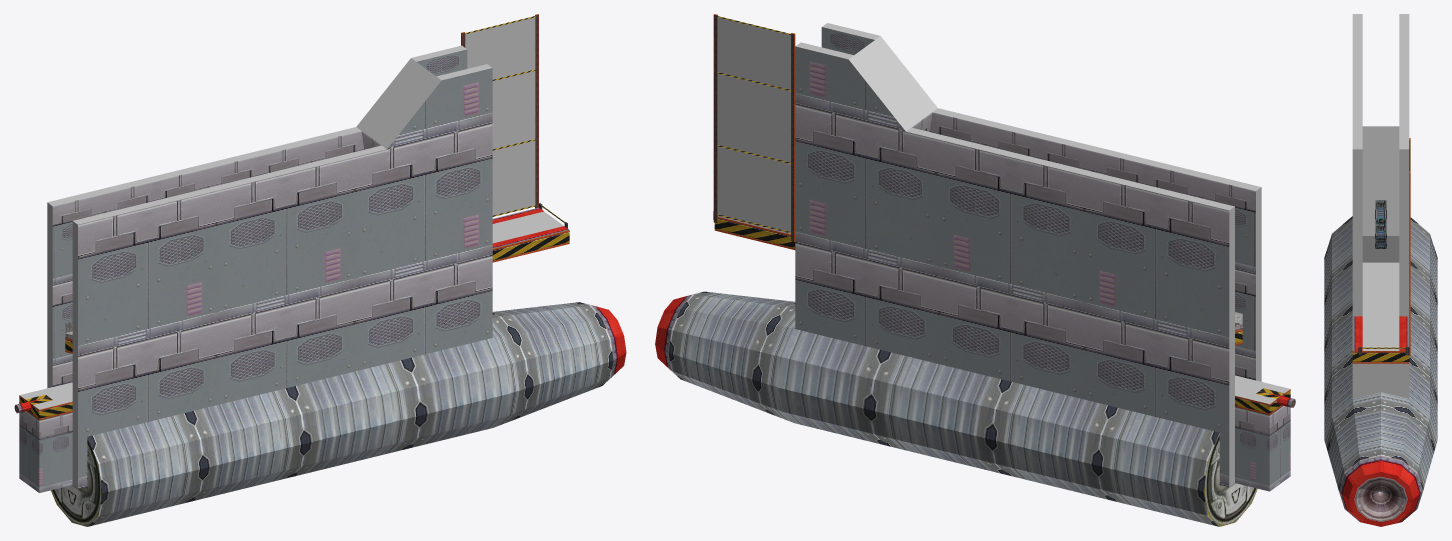
Rendered from 2PEgg_fleet6.obj.
3 renders of one model, left to right at view 1: azimuth 30°, elevation 25°; view 2: azimuth 150°, elevation 25°; view 3: azimuth 270°, elevation 25°, orthographic. The views are drawn at different scales.
Parts seen in each view (by area): view 1: obj2, Object_2, obj3; view 2: obj2, Object_2, obj3; view 3: obj2, obj3.
Part boxes in pixels (x1=…): obj2: x1=19, y1=14, x2=626, y2=526; Object_2: x1=465, y1=17, x2=535, y2=215; obj3: x1=14, y1=207, x2=568, y2=413; obj2: x1=655, y1=14, x2=1290, y2=526; Object_2: x1=717, y1=17, x2=790, y2=231; obj3: x1=718, y1=216, x2=1295, y2=407; obj2: x1=1324, y1=14, x2=1437, y2=526; obj3: x1=1352, y1=262, x2=1409, y2=350.
Size of the model in its own units: 891 by 545 by 160.
